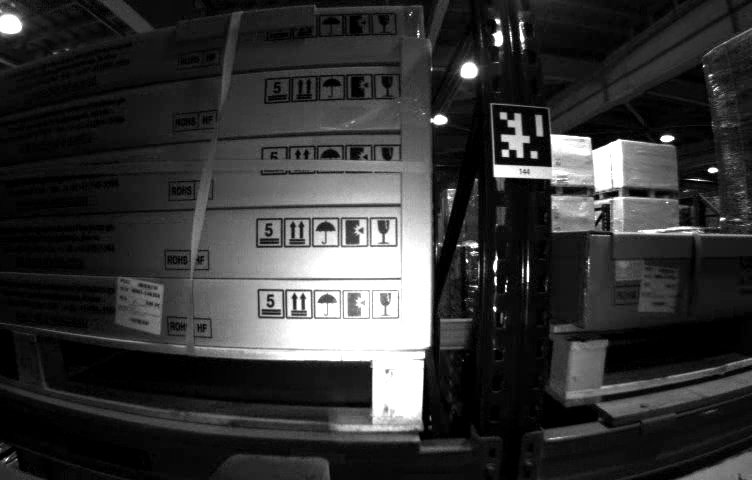True Barcode: (110, 274, 164, 341), (637, 260, 683, 312)
